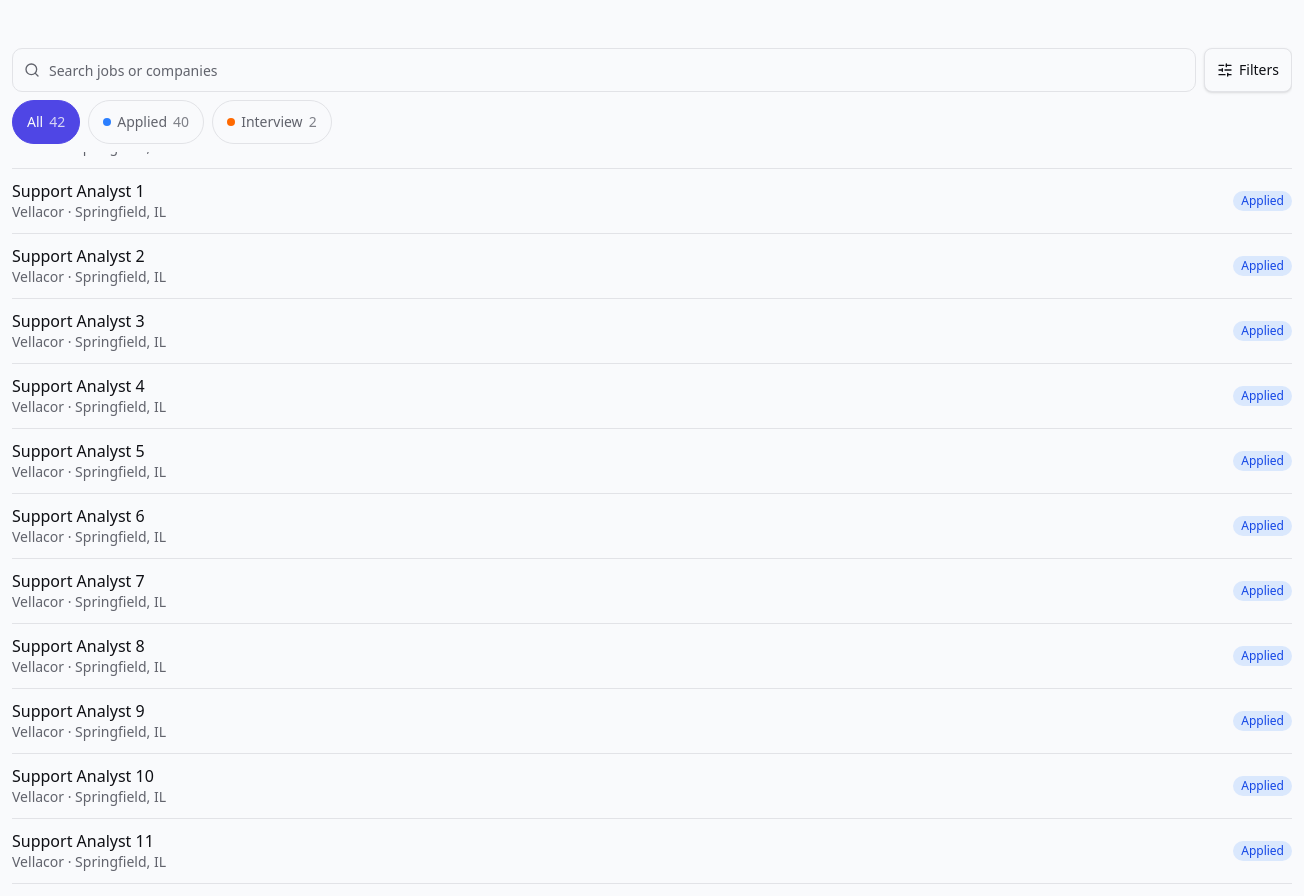
Test: PhoneJobList › search narrows the rows and the chip counts
Type "quillstone" into the search field named "Search your jobs". click: (604, 70)
box: [12,48,1196,92]
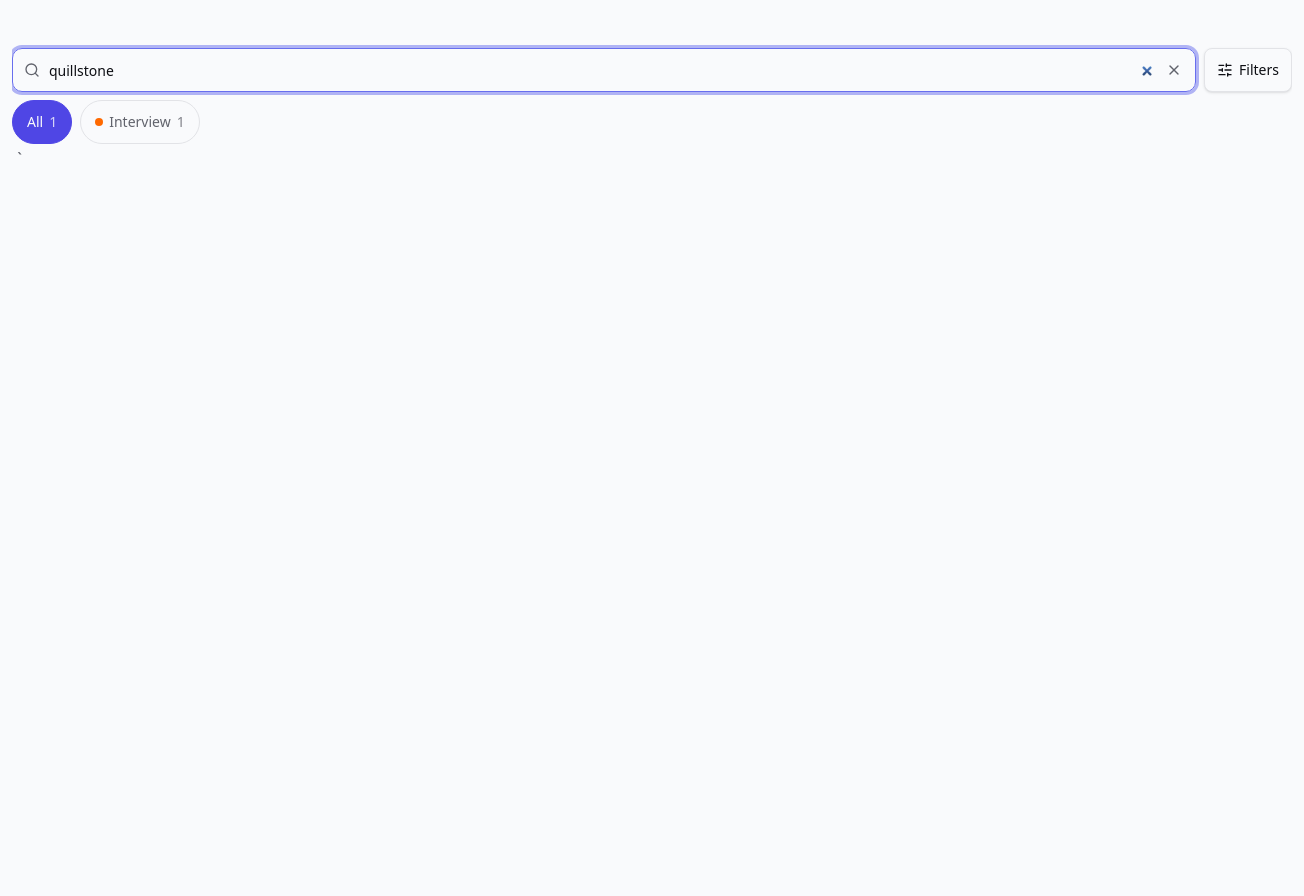
Check: the button "All 1" is shown, box [12,100,72,144]
